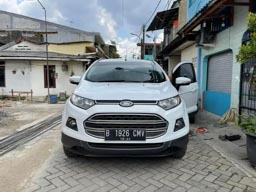plat: (104, 128, 146, 136)
